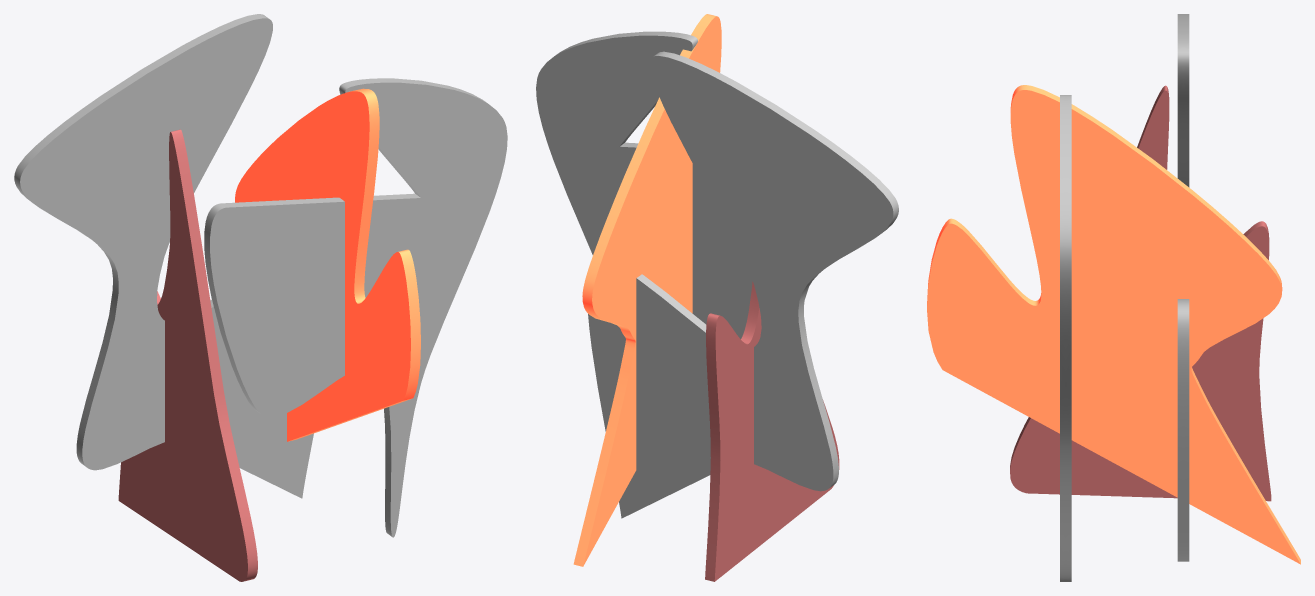
3 views of the same model, side by side, from view 1: azimuth 30°, elevation 25°; view 2: azimuth 150°, elevation 25°; view 3: azimuth 270°, elevation 25° (orthographic). The views are drawn at different scales.
Parts seen in each view (by area): view 1: Body25, Body16, Body17, Body24; view 2: Body16, Body25, Body24, Body17; view 3: Body24, Body17, Body25, Body16.
Boxes of the visible parts, x1,y1,x2,y2 form: Body25: (204,78,507,537); Body16: (14,14,313,498); Body17: (118,129,257,581); Body24: (235,88,420,441); Body16: (588,51,898,518); Body25: (536,31,808,339); Body24: (573,14,721,566); Body17: (705,281,839,581); Body24: (927,85,1300,564); Body17: (1010,85,1271,501); Body25: (1060,95,1071,581); Body16: (1177,14,1189,561).
Bounding box in the file's own units: 85.66 × 94.66 × 64.05.
